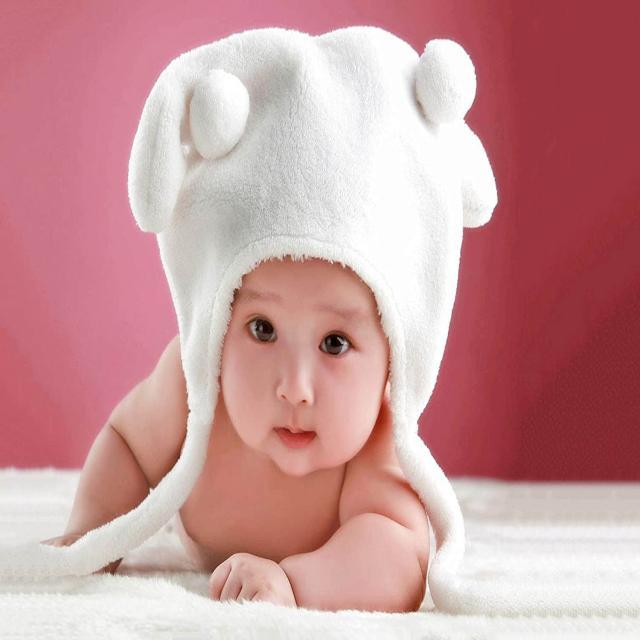non-dog: (40, 13, 482, 617)
